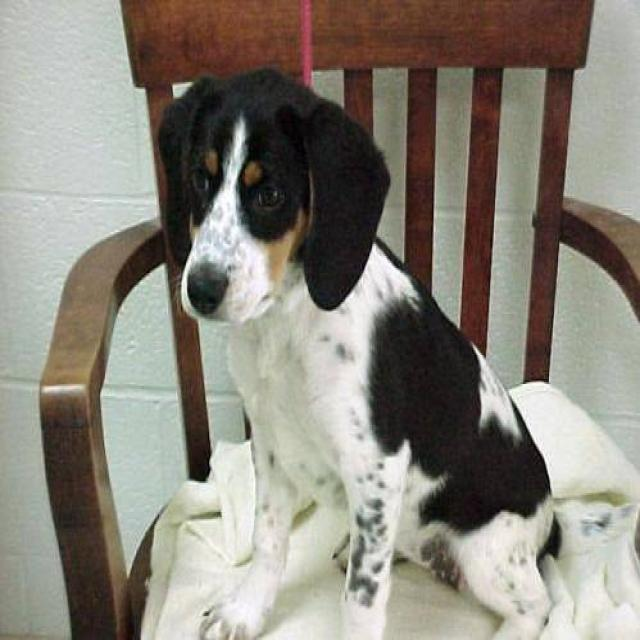dog: (156, 65, 562, 638)
